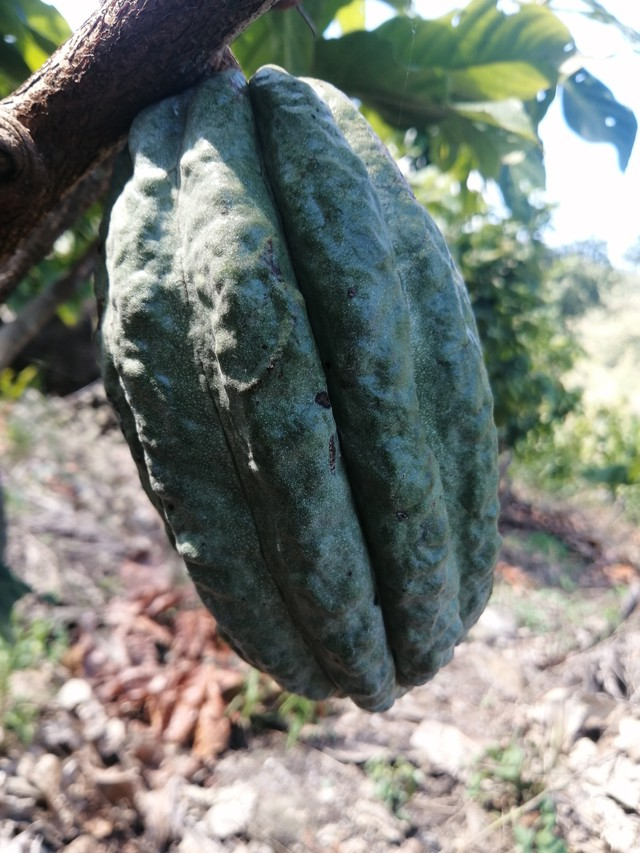Health: (72, 47, 534, 721)
